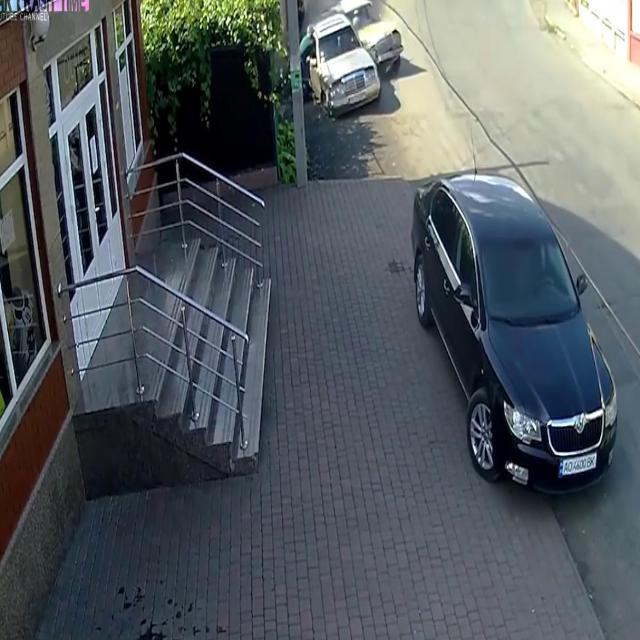accident: (299, 0, 416, 130)
